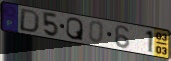0: (87, 20, 105, 45)
1: (144, 30, 154, 54)
5: (41, 11, 60, 38)
6: (114, 24, 132, 50)
D: (18, 8, 41, 34)
Q: (65, 17, 84, 42)
